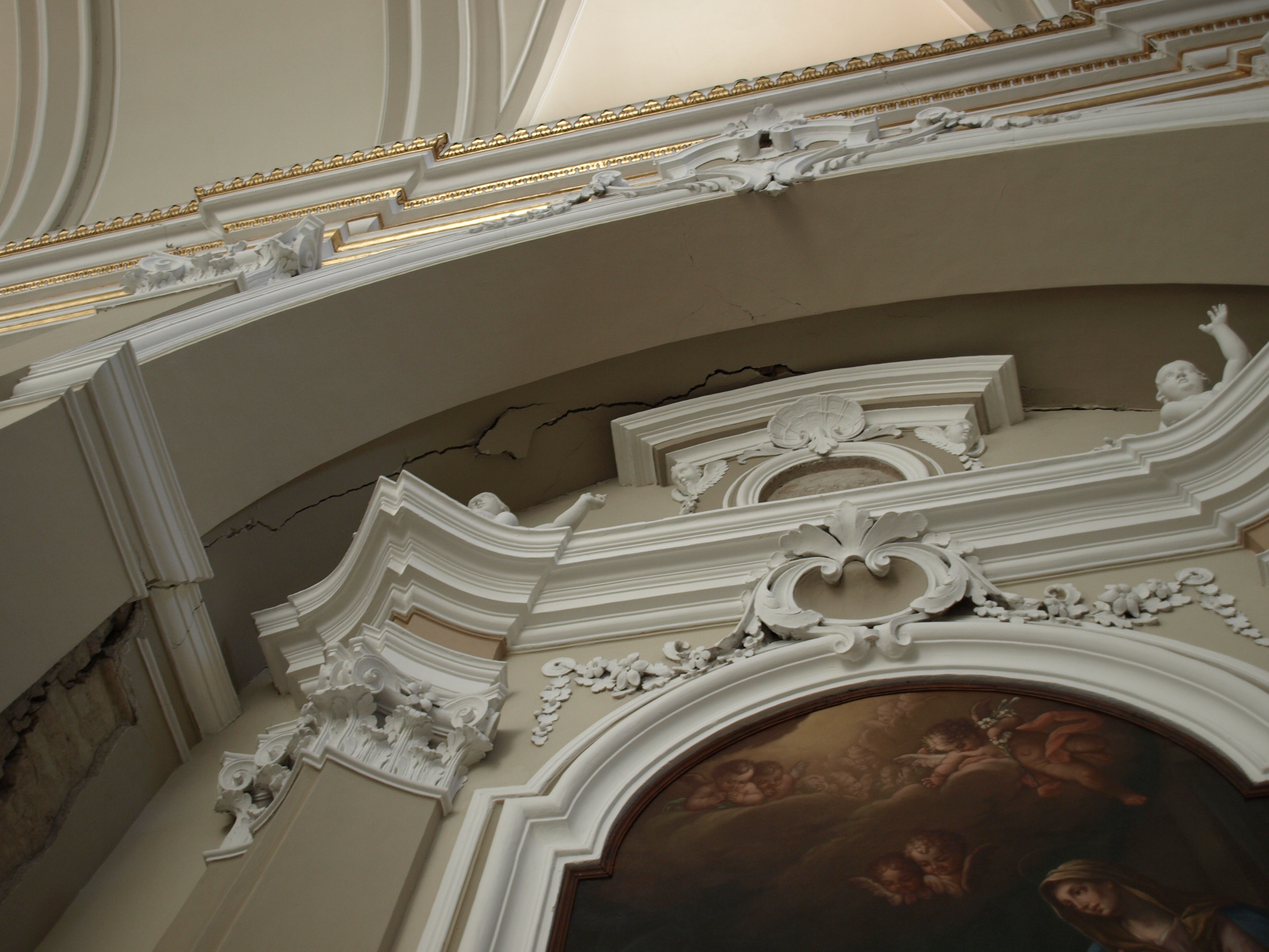Crack: (54, 331, 1175, 642)
